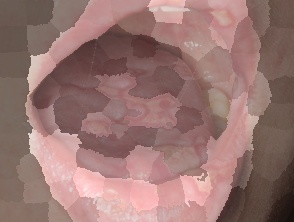SJS-TEN: (74, 48, 173, 148), (151, 132, 220, 205)
